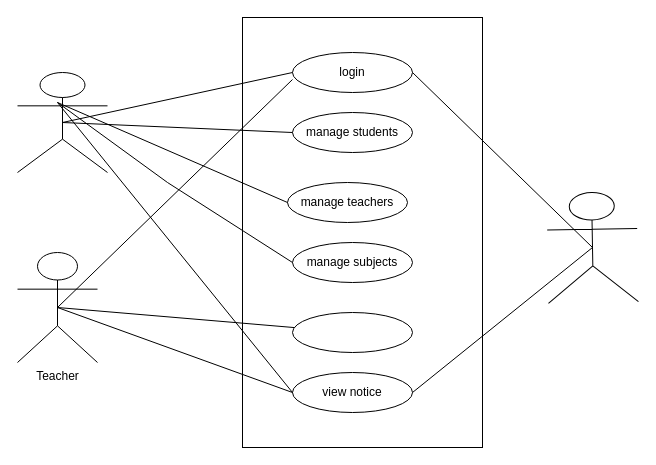
This 656x465 diagram has some shape labels left out. The box of each missing label's shape, as (x1, y1, x2, y2) in pixels:
Admin: (16, 72, 108, 172)
manage attendace: (292, 312, 412, 352)
Student: (546, 191, 638, 303)
